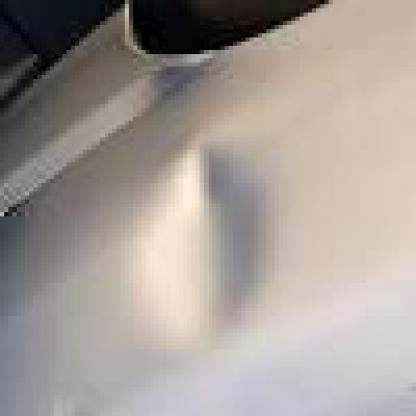dent: (131, 137, 285, 333)
